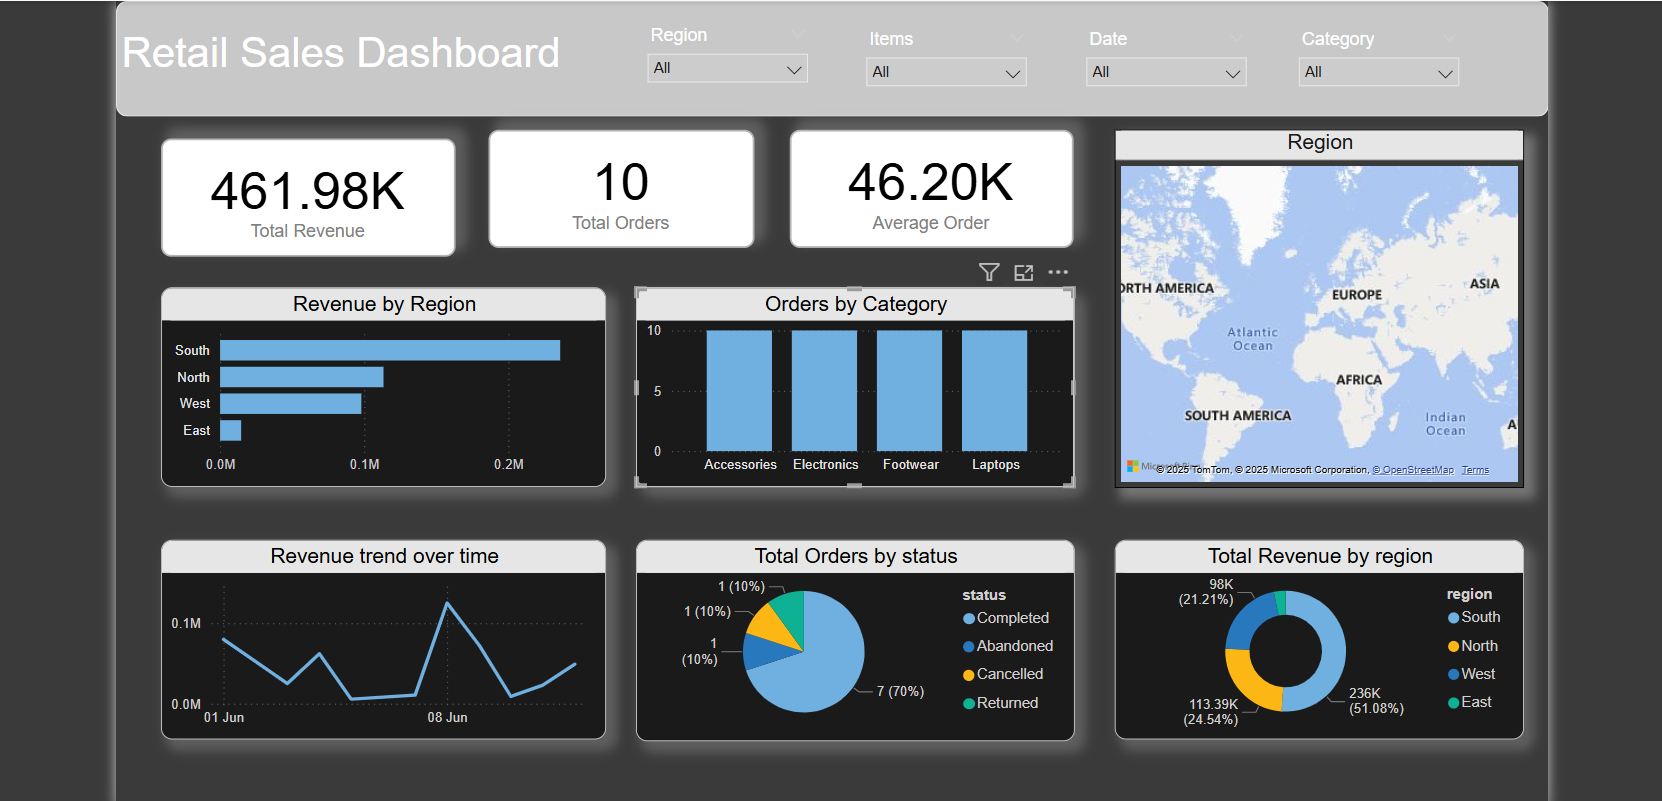

Layout of this report page (visuals, bound fields, positions):
{"tool":"powerbi","page":{"name":"Retail Sales Dashboard","canvas":[1280,720],"ordinal":0},"visuals":[{"type":"shape","box":[0,0,1279.8,103.5],"z":0},{"type":"textbox","box":[0,19.7,415.1,61.6],"z":1000},{"type":"card","fields":{"Values":["Measure.Total Revenue"]},"box":[40.6,123.2,263.6,105.9],"z":2000},{"type":"card","fields":{"Values":["Measure.Total Orders"]},"box":[332.6,114.6,237.7,105.9],"z":3000},{"type":"card","fields":{"Values":["Measure.Average Order"]},"box":[602.3,114.6,253.7,105.9],"z":4000},{"type":"barChart","title":"Revenue by Region","fields":{"Y":["Measure.Total Revenue"],"Category":["retaildb customers.region"]},"box":[40.6,256.2,397.8,178.6],"z":5000},{"type":"columnChart","title":"Orders by Category","fields":{"Y":["Measure.Total Orders"],"Category":["retaildb products.category"]},"box":[464.4,256.2,391.7,178.6],"z":6000},{"type":"lineChart","title":"Revenue trend over time","fields":{"Y":["Sum(retaildb orders.order_value)"],"Category":["retaildb orders.order_date.Variation.Date Hierarchy.Year","retaildb orders.order_date.Variation.Date Hierarchy.Quarter","retaildb orders.order_date.Variation.Date Hierarchy.Month","retaildb orders.order_date.Variation.Date Hierarchy.Day"]},"box":[40.6,481.6,397.8,178.6],"z":7000},{"type":"pieChart","fields":{"Category":["retaildb orders.status"],"Y":["Measure.Total Orders"]},"box":[464.4,481.6,391.7,179.8],"z":8000},{"type":"donutChart","fields":{"Y":["Measure.Total Revenue"],"Category":["retaildb customers.region"]},"box":[891.8,481.6,365.8,178.6],"z":8001},{"type":"filledMap","title":"Region","fields":{"Category":["retaildb customers.region"]},"box":[891.8,114.6,365.8,320.3],"z":8002},{"type":"slicer","fields":{"Values":["retaildb customers.region"]},"box":[464.4,17.2,163.8,64.1],"z":8003},{"type":"slicer","fields":{"Values":["retaildb products.product_name"]},"box":[660.2,19.7,163.8,64.1],"z":8004},{"type":"slicer","fields":{"Values":["retaildb orders.order_date"]},"box":[856.1,19.7,163.8,64.1],"z":8005},{"type":"slicer","fields":{"Values":["retaildb products.category"]},"box":[1045.7,19.7,163.8,64.1],"z":8006}]}

Visuals, with their boxes on the page's 1280x720 design canvas (x1, y1, x2, y2). These are canvas units, not pixel positions in the 1662x801 screenshot, which may show the page scaled, cropped or inside an application window:
shape: <box>0,0,1280,104</box>
textbox: <box>0,20,415,81</box>
card - Measure.Total Revenue: <box>41,123,304,229</box>
card - Measure.Total Orders: <box>333,115,570,220</box>
card - Measure.Average Order: <box>602,115,856,220</box>
"Revenue by Region" barChart: <box>41,256,438,435</box>
"Orders by Category" columnChart: <box>464,256,856,435</box>
"Revenue trend over time" lineChart: <box>41,482,438,660</box>
pieChart - retaildb orders.status x Measure.Total Orders: <box>464,482,856,661</box>
donutChart - Measure.Total Revenue x retaildb customers.region: <box>892,482,1258,660</box>
"Region" filledMap: <box>892,115,1258,435</box>
slicer - retaildb customers.region: <box>464,17,628,81</box>
slicer - retaildb products.product_name: <box>660,20,824,84</box>
slicer - retaildb orders.order_date: <box>856,20,1020,84</box>
slicer - retaildb products.category: <box>1046,20,1210,84</box>
